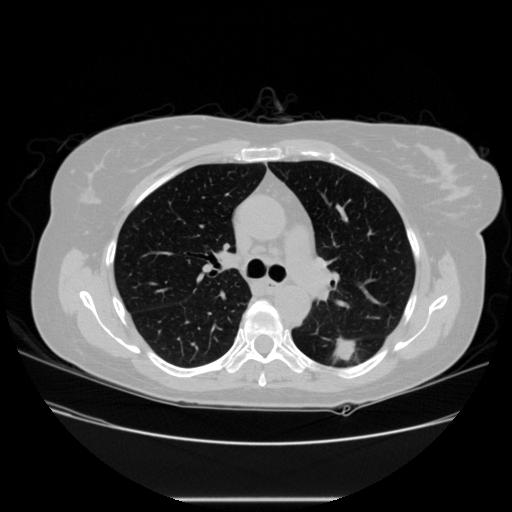nodule: (328, 333, 359, 364)
